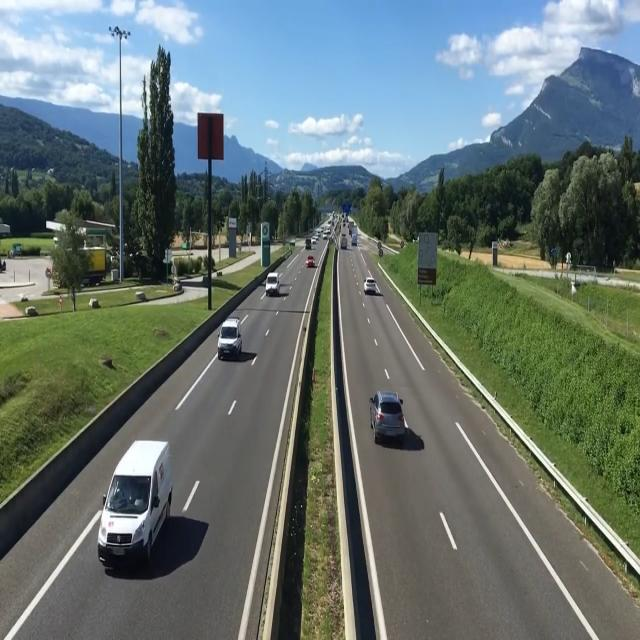car: (101, 446, 175, 578), (371, 387, 414, 448), (217, 316, 249, 361), (264, 268, 281, 298), (363, 274, 379, 299), (307, 249, 317, 272)
